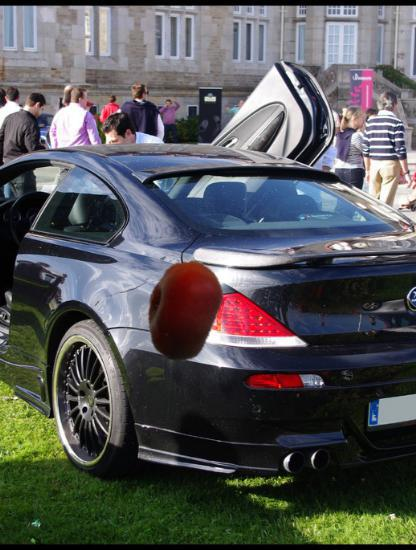Nectarine: (134, 260, 235, 361)
